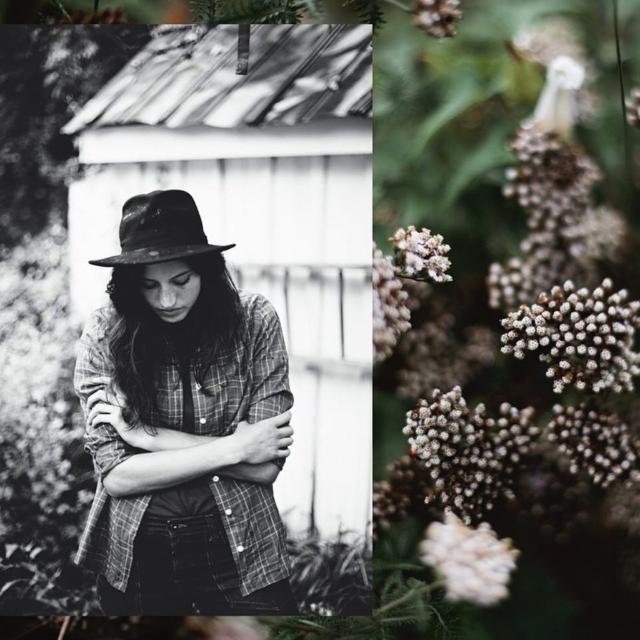Flower: (404, 382, 546, 522), (486, 204, 632, 322), (499, 278, 639, 394), (380, 312, 512, 408), (420, 508, 530, 618), (498, 127, 600, 226), (547, 402, 639, 488), (364, 238, 416, 366), (388, 225, 450, 285)
